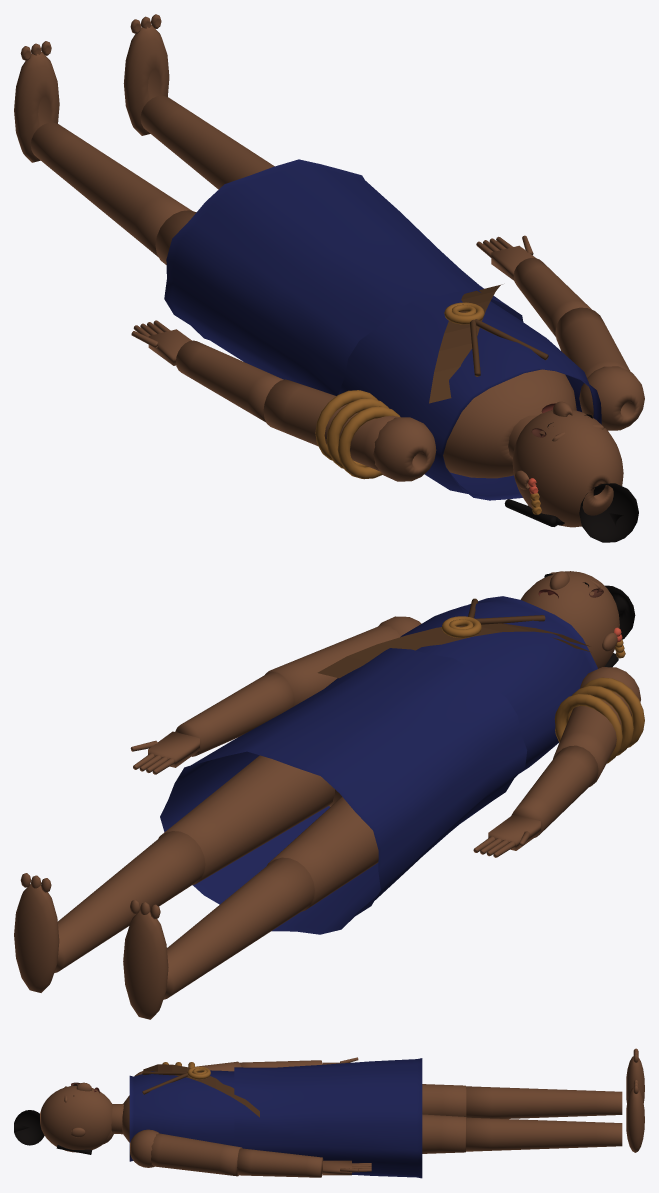
File: ADANNA_AD03_V4.obj
3 renders of one model, top to bottom at view 1: azimuth 30°, elevation 25°; view 2: azimuth 150°, elevation 25°; view 3: azimuth 270°, elevation 25°, orthographic. The views are drawn at different scales.
Visible parts, largest first — view 1: skirt_wrap_indigo, wrap_top_indigo, shin_foot.L, head, shin_foot.R, neck_torso_upper, upperarm.L, upperarm.R, forearm_hand.L, forearm_hand.R, baldric_L_to_R, hair_knot (+5 smaller); view 2: skirt_wrap_indigo, shin_foot.L, wrap_top_indigo, shin_foot.R, thigh.R, forearm_hand.R, thigh.L, forearm_hand.L, head, upperarm.R, upperarm.L, baldric_L_to_R (+5 smaller); view 3: skirt_wrap_indigo, wrap_top_indigo, shin_foot.R, shin_foot.L, head, upperarm.R, forearm_hand.R, thigh.R, thigh.L, hair_knot, baldric_L_to_R, forearm_hand.L (+4 smaller).
Boxes of the visible parts, bbox=[...] form: skirt_wrap_indigo: bbox=[164, 159, 523, 395]; wrap_top_indigo: bbox=[338, 290, 601, 500]; shin_foot.L: bbox=[14, 41, 191, 257]; head: bbox=[508, 410, 623, 527]; shin_foot.R: bbox=[123, 14, 274, 189]; neck_torso_upper: bbox=[443, 369, 576, 478]; upperarm.L: bbox=[263, 379, 436, 481]; upperarm.R: bbox=[555, 307, 644, 430]; forearm_hand.L: bbox=[131, 320, 283, 422]; forearm_hand.R: bbox=[476, 235, 591, 336]; baldric_L_to_R: bbox=[429, 284, 502, 403]; hair_knot: bbox=[579, 483, 638, 542]; skirt_wrap_indigo: bbox=[160, 648, 527, 934]; shin_foot.L: bbox=[123, 857, 314, 1019]; wrap_top_indigo: bbox=[400, 596, 597, 773]; shin_foot.R: bbox=[14, 831, 205, 992]; thigh.R: bbox=[158, 755, 334, 884]; forearm_hand.R: bbox=[130, 672, 293, 774]; thigh.L: bbox=[267, 797, 378, 911]; forearm_hand.L: bbox=[473, 745, 598, 857]; head: bbox=[520, 571, 619, 668]; upperarm.R: bbox=[265, 616, 421, 706]; upperarm.L: bbox=[553, 667, 640, 786]; baldric_L_to_R: bbox=[317, 623, 591, 678]; skirt_wrap_indigo: bbox=[234, 1058, 422, 1178]; wrap_top_indigo: bbox=[129, 1070, 234, 1161]; shin_foot.R: bbox=[466, 1080, 644, 1152]; shin_foot.L: bbox=[466, 1048, 644, 1118]; head: bbox=[40, 1085, 123, 1152]; upperarm.R: bbox=[130, 1129, 242, 1176]; forearm_hand.R: bbox=[237, 1148, 371, 1177]; thigh.R: bbox=[422, 1114, 466, 1153]; thigh.L: bbox=[422, 1084, 466, 1116]; hair_knot: bbox=[14, 1110, 44, 1145]; baldric_L_to_R: bbox=[143, 1064, 259, 1117]; forearm_hand.L: bbox=[239, 1057, 358, 1067].
Size of the model in its own units: 0.7784 by 0.3318 by 1.84.
